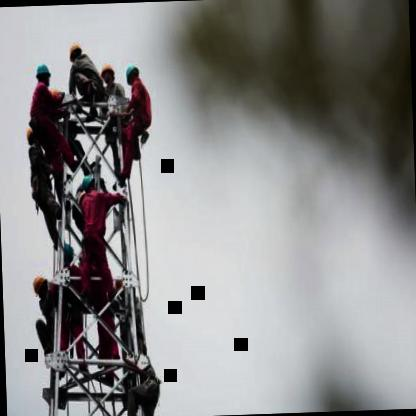helmet: (30, 271, 49, 304), (77, 172, 99, 199), (33, 61, 52, 89), (98, 62, 118, 88), (124, 60, 141, 89), (66, 40, 84, 64), (23, 124, 40, 146)
